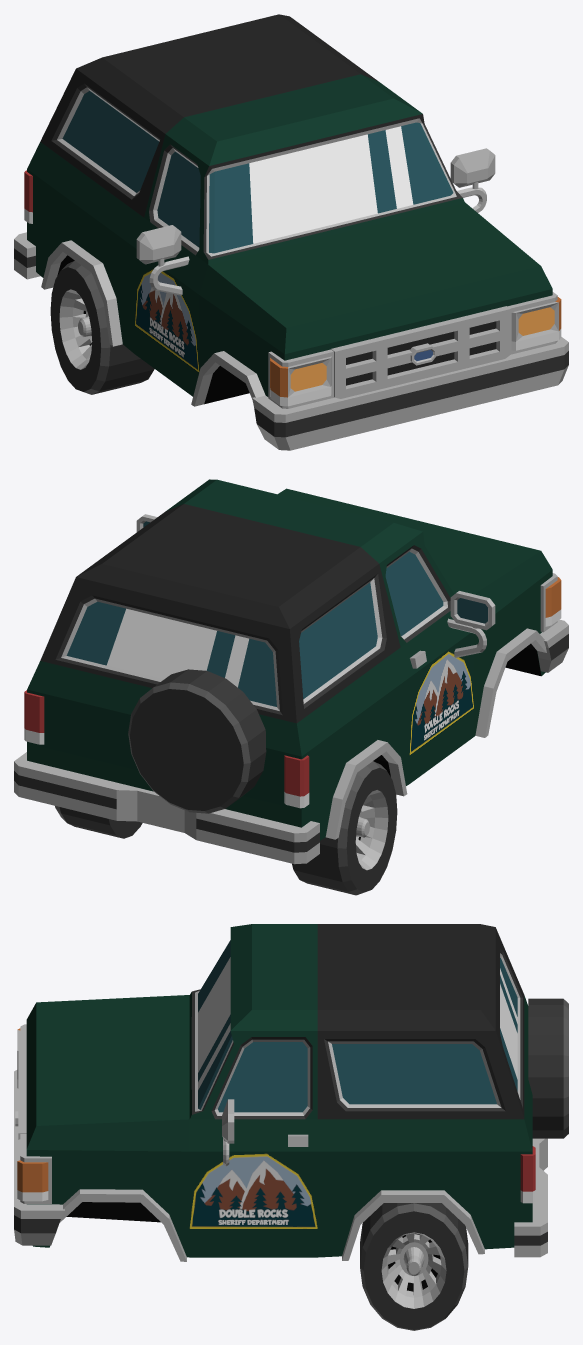
The model's file is car2.fbx.
3 views of the same model, one above another, from view 1: azimuth 30°, elevation 25°; view 2: azimuth 150°, elevation 25°; view 3: azimuth 270°, elevation 25° (orthographic).
Visible parts, largest first — view 1: Cube.025; view 2: Cube.025; view 3: Cube.025.
Boxes of the visible parts, left/top/right/bottom form: Cube.025: left=14, top=14, right=568, bottom=450; Cube.025: left=14, top=479, right=568, bottom=895; Cube.025: left=14, top=924, right=568, bottom=1330.
Bounding box in the file's own units: 167 × 133 × 226.
